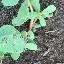Purslane: (0, 0, 61, 64)
